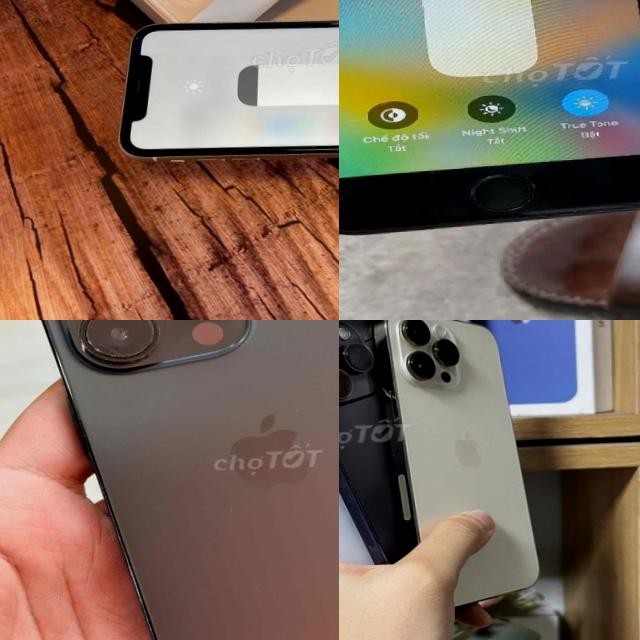scratch: (62, 320, 232, 364), (120, 537, 167, 640), (518, 190, 640, 221)
